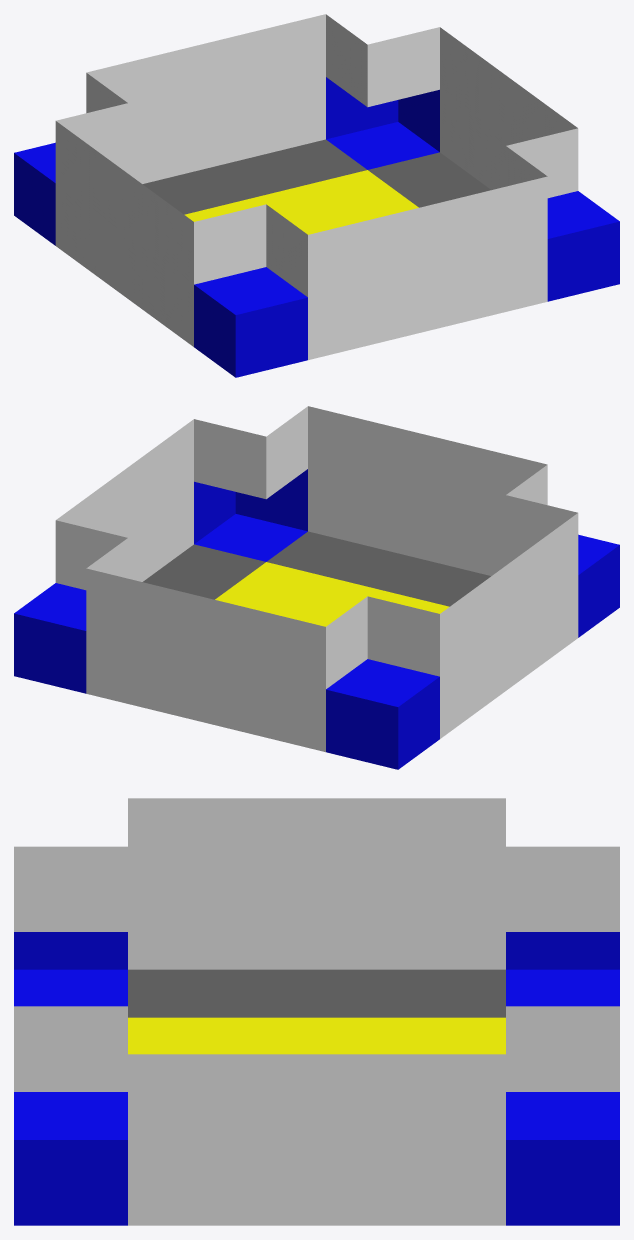
The model's file is sectionedRoomBlockOut.fbx.
3 views of the same model, one above another, from view 1: azimuth 30°, elevation 25°; view 2: azimuth 150°, elevation 25°; view 3: azimuth 270°, elevation 25° (orthographic). The views are drawn at different scales.
Parts seen in each view (by area): view 1: basic_room, bedroom3, bedroom1, bedroom4, bedroom2, A4, A3, B4, B3, A2; view 2: basic_room, bedroom2, bedroom4, bedroom1, bedroom3, D4, D3, C4, C3, D2; view 3: basic_room, bedroom1, bedroom4, bedroom2, bedroom3, A1, D1, B1, C1.
Boxes of the visible parts, bbox=[...] form: basic_room: bbox=[55, 14, 578, 360]; bedroom3: bbox=[194, 267, 307, 377]; bedroom1: bbox=[326, 77, 439, 169]; bedroom4: bbox=[547, 191, 619, 301]; bedroom2: bbox=[14, 142, 55, 245]; A4: bbox=[308, 170, 401, 209]; A3: bbox=[248, 184, 341, 222]; B4: bbox=[343, 195, 418, 222]; B3: bbox=[291, 210, 358, 234]; A2: bbox=[188, 199, 257, 220]; basic_room: bbox=[55, 406, 578, 752]; bedroom2: bbox=[326, 659, 439, 769]; bedroom4: bbox=[194, 469, 307, 561]; bedroom1: bbox=[14, 583, 86, 693]; bedroom3: bbox=[578, 534, 619, 637]; D4: bbox=[232, 562, 325, 601]; D3: bbox=[292, 576, 385, 614]; C4: bbox=[215, 587, 290, 614]; C3: bbox=[275, 602, 342, 626]; D2: bbox=[376, 591, 445, 612]; basic_room: bbox=[14, 798, 619, 1225]; bedroom1: bbox=[506, 1092, 619, 1225]; bedroom4: bbox=[14, 1092, 127, 1225]; bedroom2: bbox=[506, 932, 619, 1006]; bedroom3: bbox=[14, 932, 127, 1006]; A1: bbox=[411, 1017, 505, 1054]; D1: bbox=[128, 1017, 222, 1054]; B1: bbox=[317, 1017, 411, 1054]; C1: bbox=[222, 1017, 316, 1054].
Bounding box in the file's own units: 54 × 16.84 × 54.
